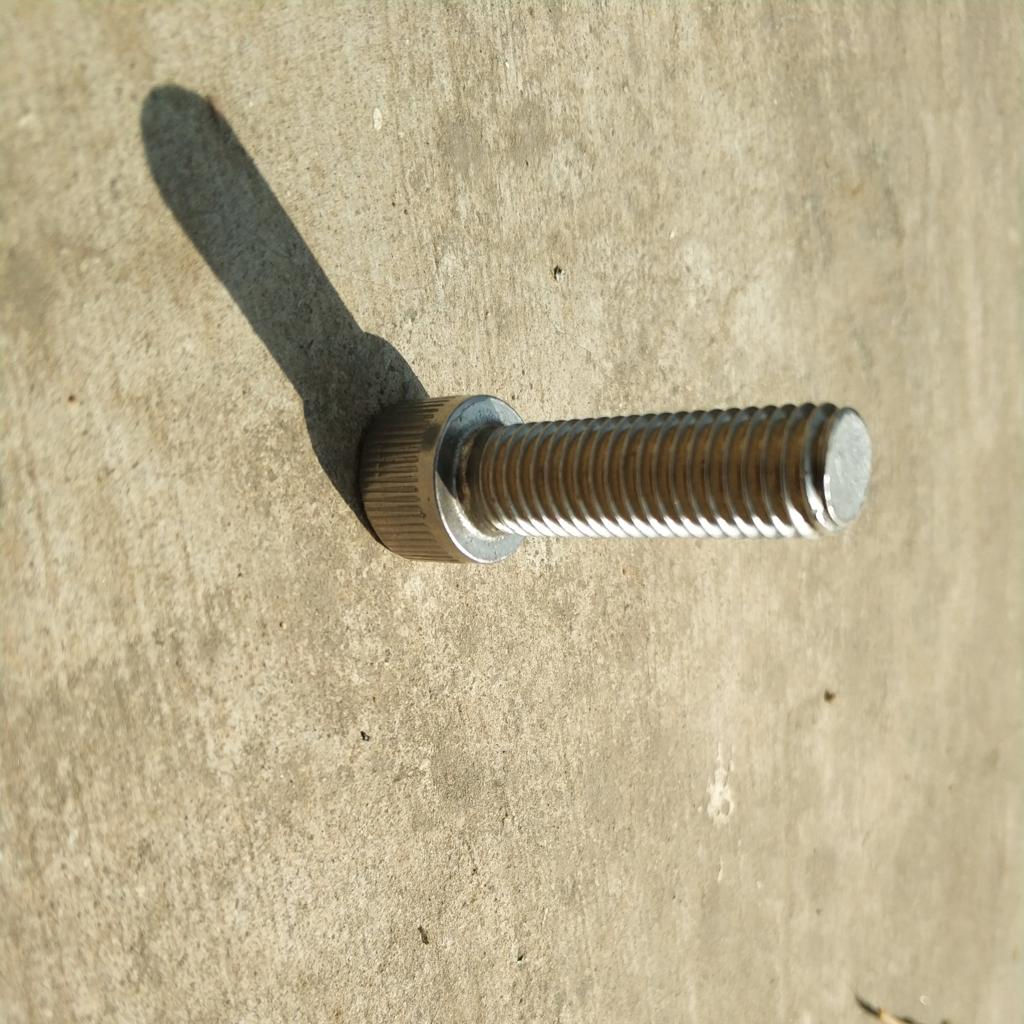screwtype1silver: (344, 367, 879, 591)
